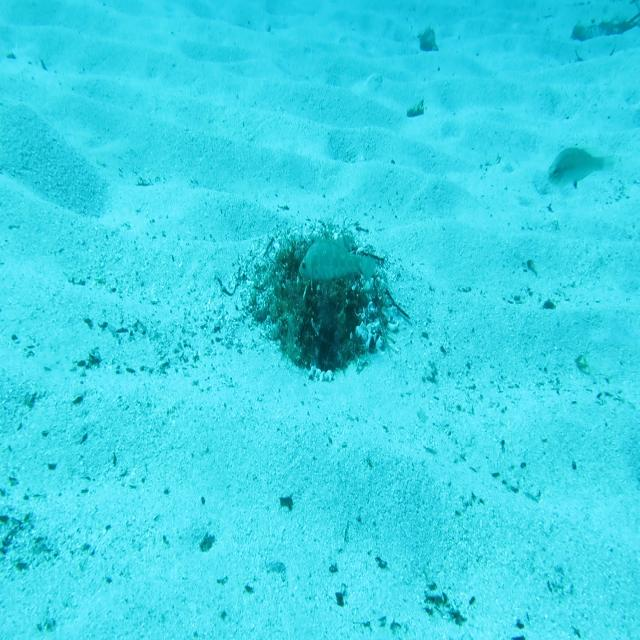INSF: (298, 233, 376, 285)
core_nest: (295, 248, 346, 293)
female: (546, 146, 615, 190)
nest: (240, 216, 406, 391)
vegetation: (569, 10, 640, 44), (416, 27, 441, 55), (407, 99, 424, 120)
